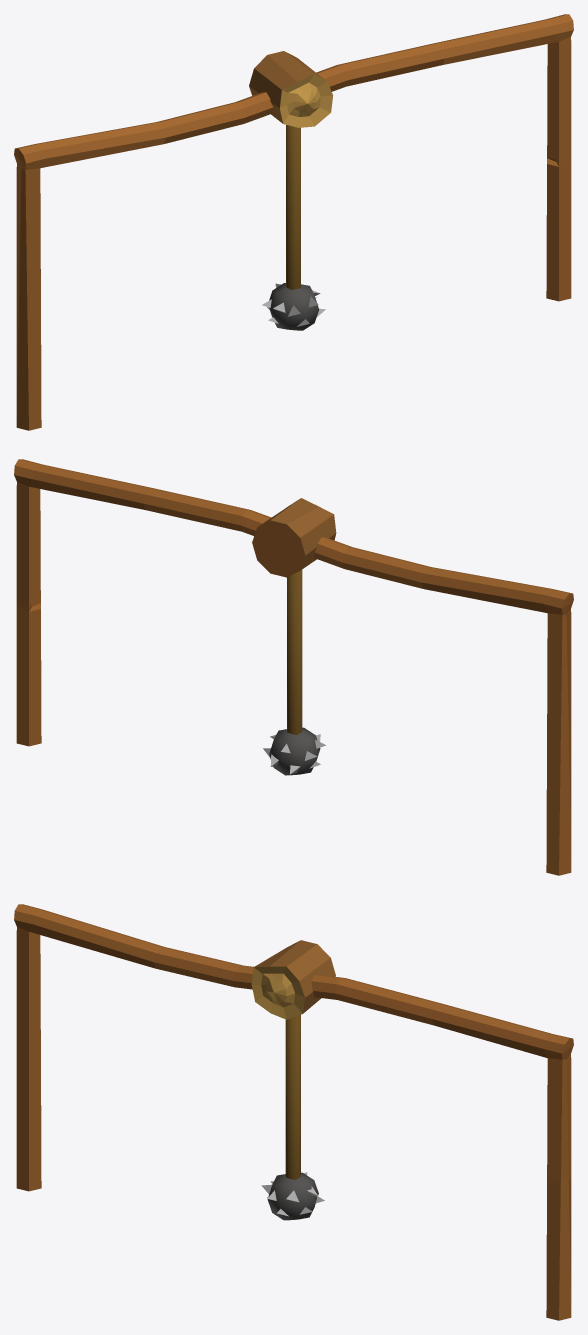
File: Trap_1.fbx
3 renders of one model, top to bottom at view 1: azimuth 30°, elevation 25°; view 2: azimuth 150°, elevation 25°; view 3: azimuth 330°, elevation 25°, orthographic.
Visible parts, largest first — view 1: Trap_2, Trap_2_2; view 2: Trap_2, Trap_2_2; view 3: Trap_2, Trap_2_2.
Part boxes in pixels (bbox=[...]): Trap_2: bbox=[14, 14, 573, 430]; Trap_2_2: bbox=[262, 125, 325, 330]; Trap_2: bbox=[14, 459, 573, 875]; Trap_2_2: bbox=[263, 570, 326, 775]; Trap_2: bbox=[14, 904, 573, 1320]; Trap_2_2: bbox=[261, 1015, 324, 1220].
Size of the model in its own units: 15.21 by 7.73 by 1.61.
